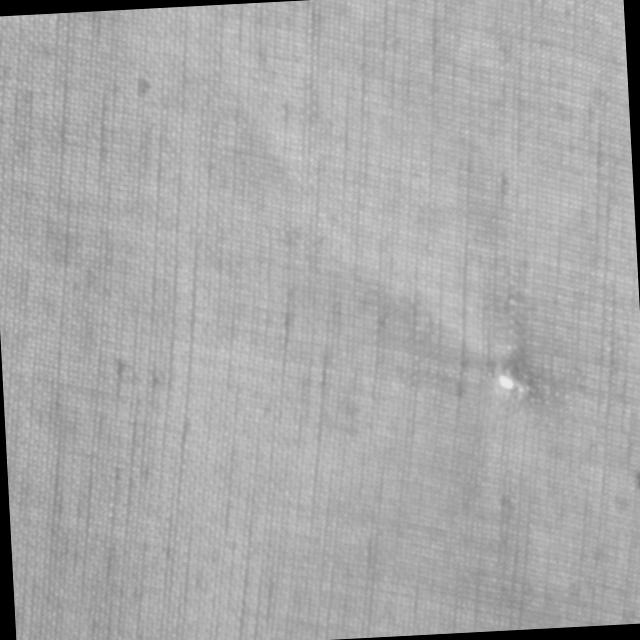hole: (492, 356, 534, 404)
